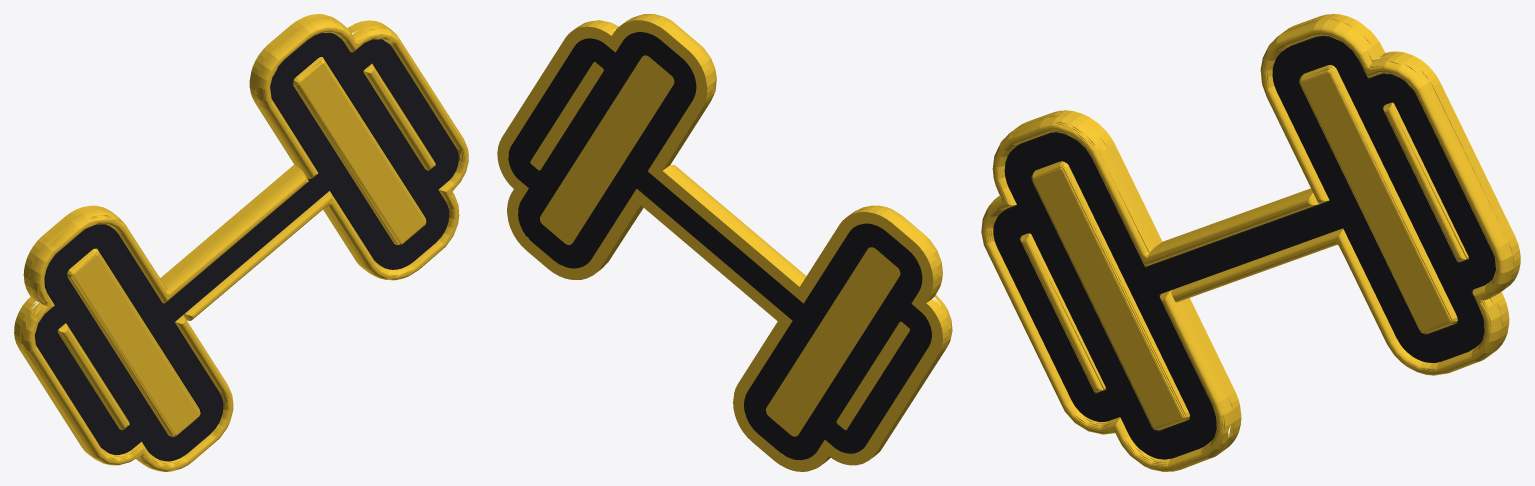
File: workouts_t8.glb
3 views of the same model, side by side, from view 1: azimuth 30°, elevation 25°; view 2: azimuth 150°, elevation 25°; view 3: azimuth 330°, elevation 25° (orthographic). The views are drawn at different scales.
Visible parts, largest first — view 1: mark, mark_channel; view 2: mark, mark_channel; view 3: mark, mark_channel.
Part boxes in pixels (x1,y1,x2,y2): mark: (14, 14, 468, 471); mark_channel: (35, 32, 458, 461); mark: (497, 14, 952, 471); mark_channel: (508, 32, 931, 460); mark: (981, 14, 1520, 471); mark_channel: (993, 35, 1495, 459).
Size of the model in its own units: 0.4763 by 0.4227 by 0.024.
